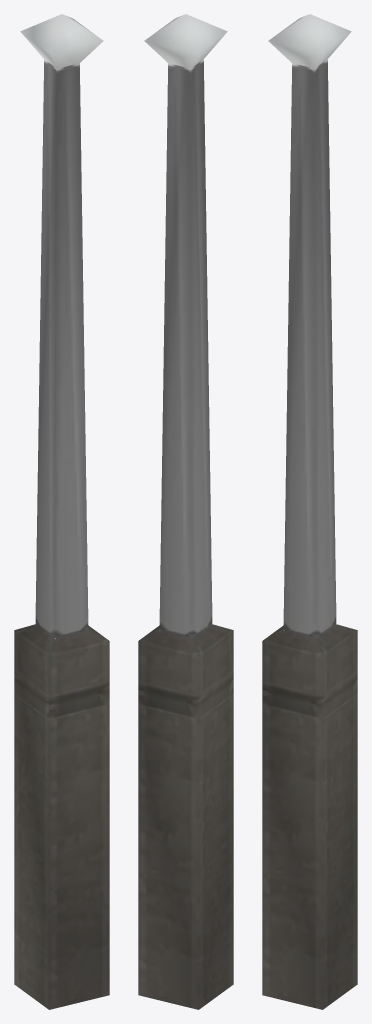
The model's file is Part - Detail 01-CsyBNPGL.glb.
3 views of the same model, side by side, from view 1: azimuth 30°, elevation 25°; view 2: azimuth 150°, elevation 25°; view 3: azimuth 330°, elevation 25° (orthographic).
Visible parts, largest first — view 1: Detail_01; view 2: Detail_01; view 3: Detail_01.
Part boxes in pixels (x1,y1,x2,y2): Detail_01: (14,14,109,1009); Detail_01: (138,14,233,1009); Detail_01: (262,14,357,1009).
Size of the model in its own units: 0.1985 by 3.06 by 0.1985.
Materials: 1 (1 with a texture image).
